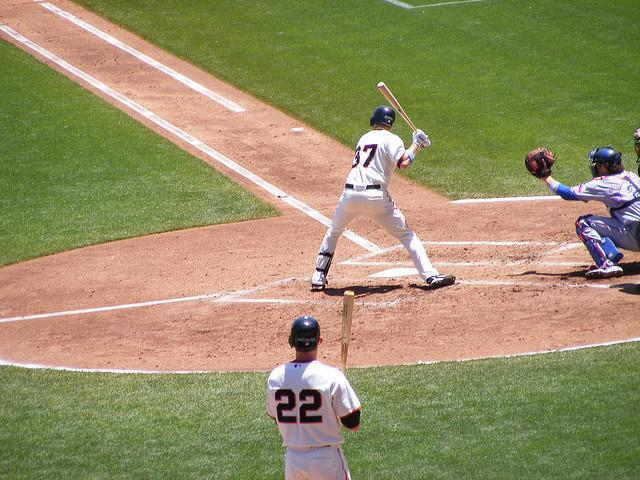baseball bat: (377, 81, 417, 131), (341, 290, 355, 376)
